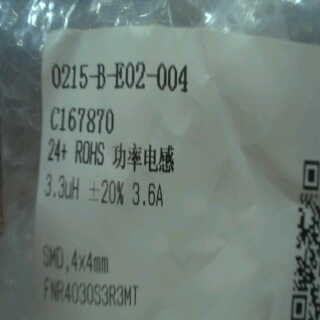3.3uH: (39, 171, 85, 207)
